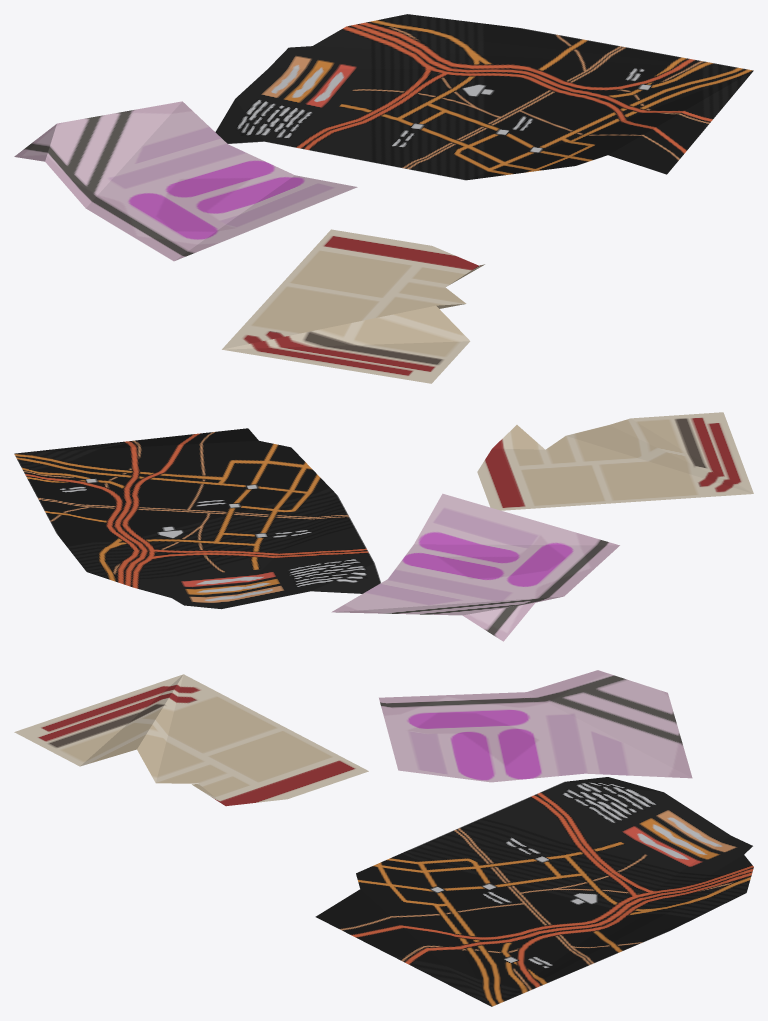
File: SM_Prop_Junk_Paper_06.fbx
3 renders of one model, top to bottom at view 1: azimuth 30°, elevation 25°; view 2: azimuth 150°, elevation 25°; view 3: azimuth 270°, elevation 25°, orthographic. The views are drawn at different scales.
Visible parts, largest first — view 1: SM_Prop_Junk_Paper_06; view 2: SM_Prop_Junk_Paper_06; view 3: SM_Prop_Junk_Paper_06.
Part boxes in pixels (x1,y1,x2,y2): SM_Prop_Junk_Paper_06: (14, 14, 753, 383); SM_Prop_Junk_Paper_06: (14, 412, 753, 641); SM_Prop_Junk_Paper_06: (14, 670, 753, 1006).
Bounding box in the file's own units: 84.63 × 3.32 × 80.94.
